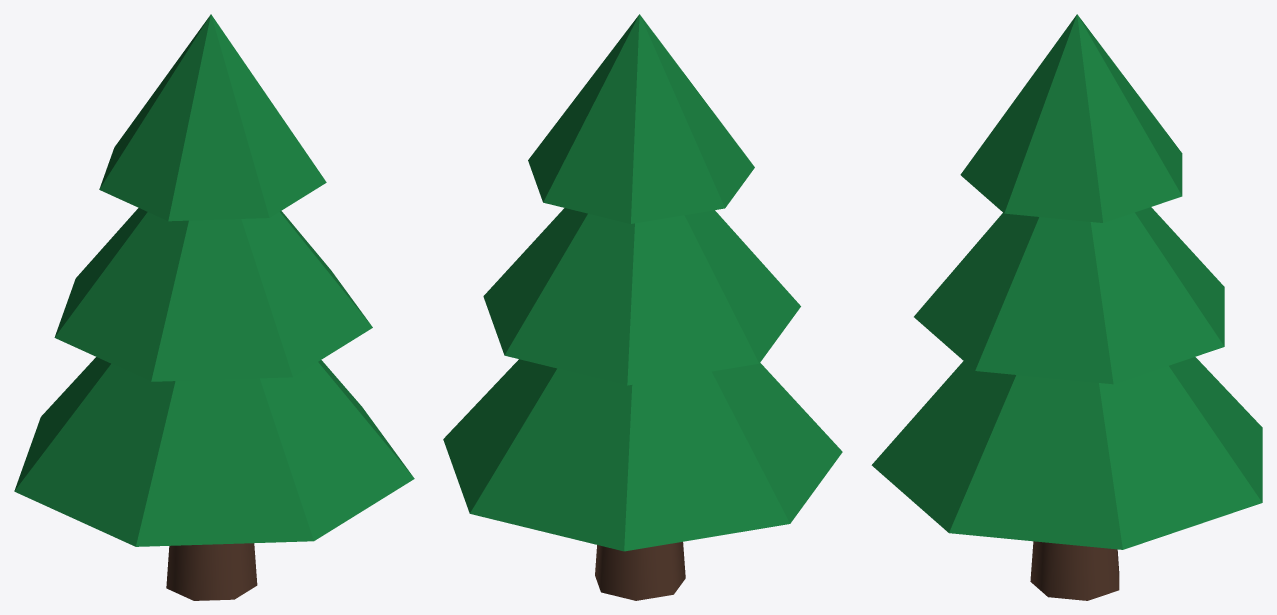
The model's file is tree.glb.
3 views of the same model, side by side, from view 1: azimuth 30°, elevation 25°; view 2: azimuth 150°, elevation 25°; view 3: azimuth 270°, elevation 25° (orthographic).
Parts seen in each view (by area): view 1: TreeFoliage, TreeTrunk; view 2: TreeFoliage, TreeTrunk; view 3: TreeFoliage, TreeTrunk.
Part boxes in pixels (bbox=[...]): TreeFoliage: bbox=[14, 14, 414, 546]; TreeTrunk: bbox=[166, 543, 257, 600]; TreeFoliage: bbox=[443, 14, 842, 551]; TreeTrunk: bbox=[595, 542, 685, 600]; TreeFoliage: bbox=[871, 14, 1262, 549]; TreeTrunk: bbox=[1030, 541, 1119, 600].
Size of the model in its own units: 0.8579 by 1.34 by 0.8364.
